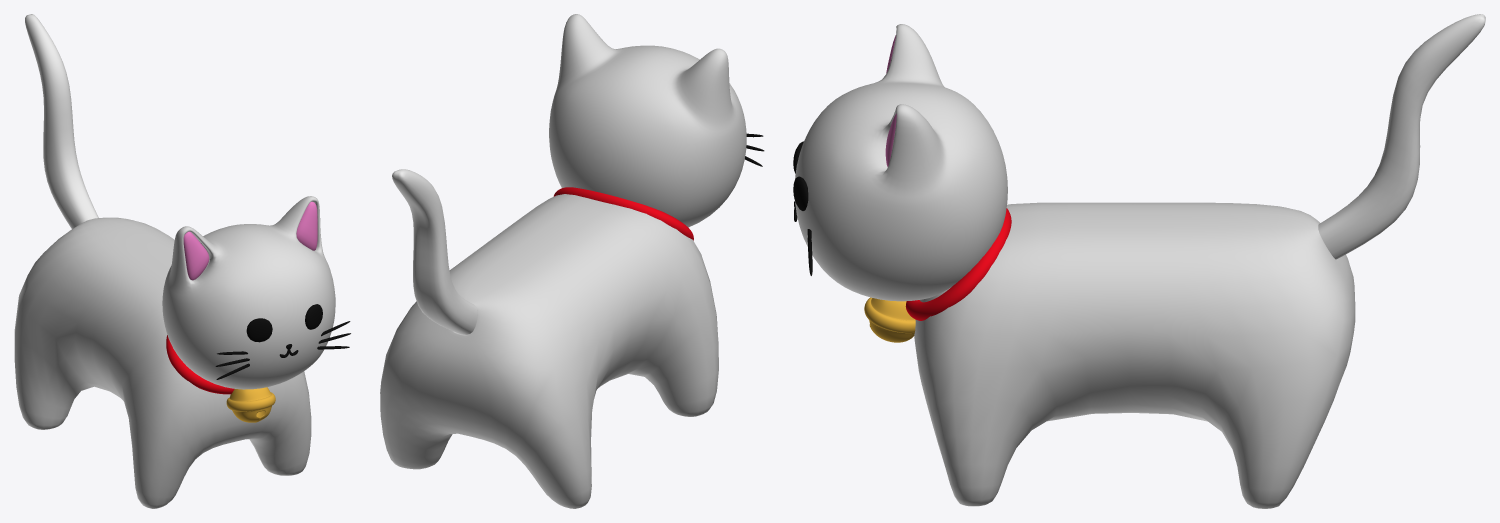
File: cat.glb
3 renders of one model, left to right at view 1: azimuth 30°, elevation 25°; view 2: azimuth 150°, elevation 25°; view 3: azimuth 270°, elevation 25°, orthographic. The views are drawn at different scales.
Visible parts, largest first — view 1: Body, Head, tail, ear, bell, Eyes, Torus.002, beard; view 2: Body, Head, tail, Torus.002; view 3: Body, Head, tail, Torus.002, bell.
Part boxes in pixels (box(x1,y1,x2,y2)): Body: box(14, 217, 311, 508); Head: box(162, 196, 335, 389); tail: box(25, 14, 98, 228); ear: box(183, 201, 317, 280); bell: box(226, 387, 275, 422); Eyes: box(246, 304, 322, 342); Torus.002: box(166, 335, 234, 394); beard: box(215, 321, 350, 379); Body: box(380, 194, 718, 508); Head: box(549, 14, 746, 227); tail: box(392, 169, 477, 334); Torus.002: box(553, 187, 693, 240); Body: box(914, 202, 1355, 508); Head: box(795, 24, 1007, 301); tail: box(1318, 14, 1485, 259); Torus.002: box(905, 208, 1011, 320); bell: box(864, 297, 915, 342).
Size of the model in its own units: 2.49 by 4.53 by 6.42.
